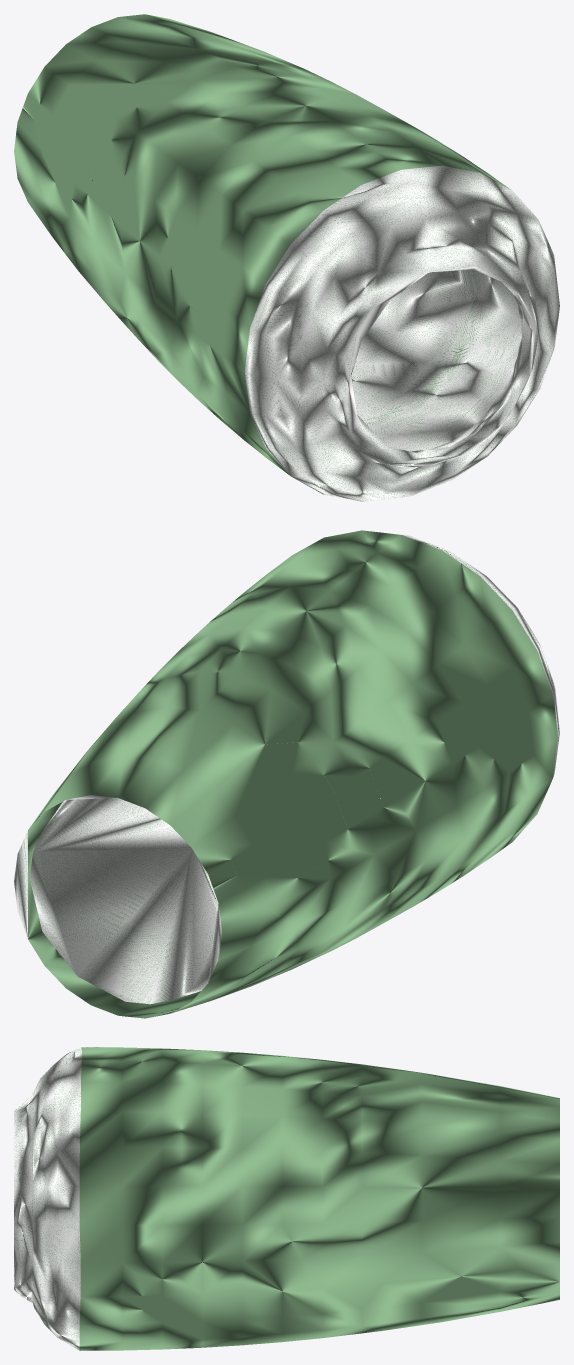
The model's file is model_align.obj.
The picture shows the model from 3 angles, top to bottom: view 1: azimuth 30°, elevation 25°; view 2: azimuth 150°, elevation 25°; view 3: azimuth 270°, elevation 25°; orthographic projection. The views are drawn at different scales.
Bounding box in the file's own units: 0.0702 × 0.0702 × 0.1258.
